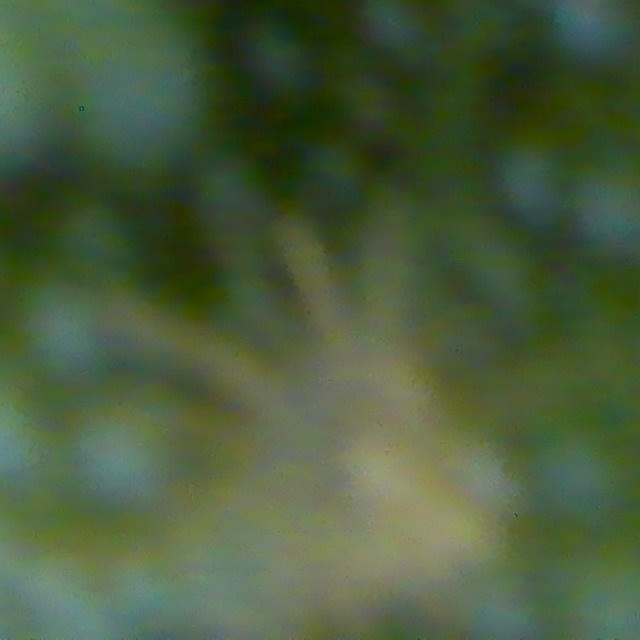SeaGrape: (55, 405, 192, 519), (524, 423, 633, 529), (532, 534, 640, 640), (14, 275, 114, 378), (568, 165, 640, 266), (191, 153, 274, 236), (494, 134, 574, 215), (544, 0, 637, 62), (56, 199, 134, 272), (358, 0, 433, 59)
